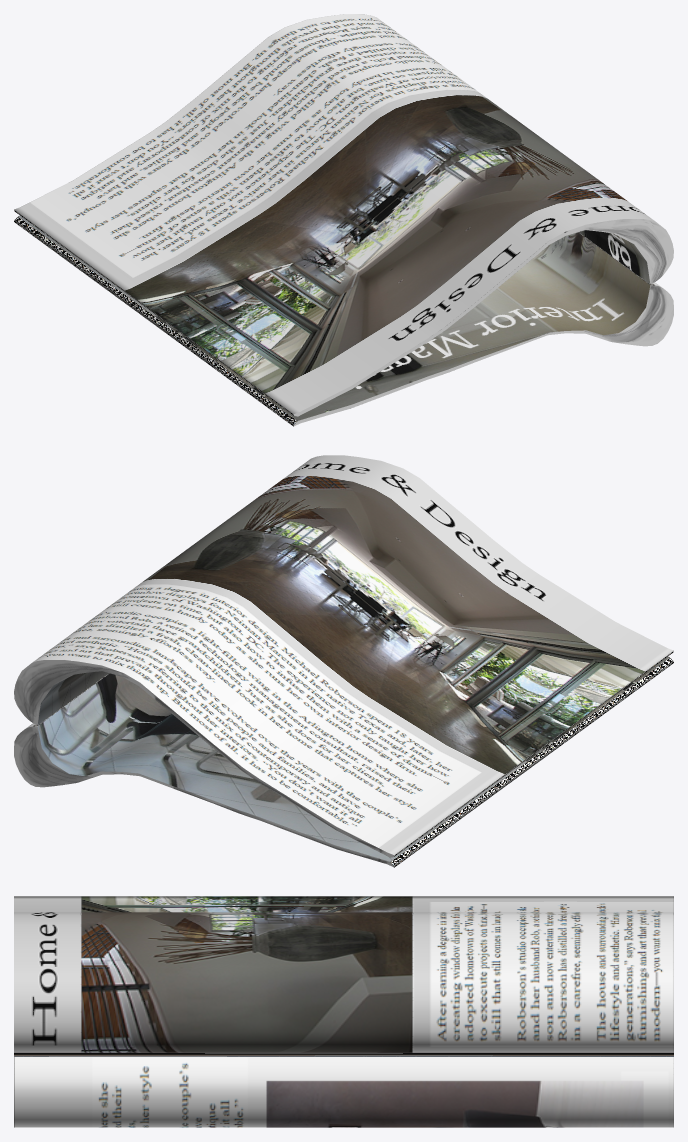
File: Magazine.FBX
The picture shows the model from 3 angles, top to bottom: view 1: azimuth 30°, elevation 25°; view 2: azimuth 150°, elevation 25°; view 3: azimuth 270°, elevation 25°; orthographic projection. The views are drawn at different scales.
Parts seen in each view (by area): view 1: Magazine; view 2: Magazine; view 3: Magazine.
Boxes of the visible parts, <box> form: Magazine: <box>14,14,673,426</box>; Magazine: <box>14,455,673,867</box>; Magazine: <box>14,896,673,1127</box>.
Size of the model in its own units: 94.82 by 32.75 by 121.
